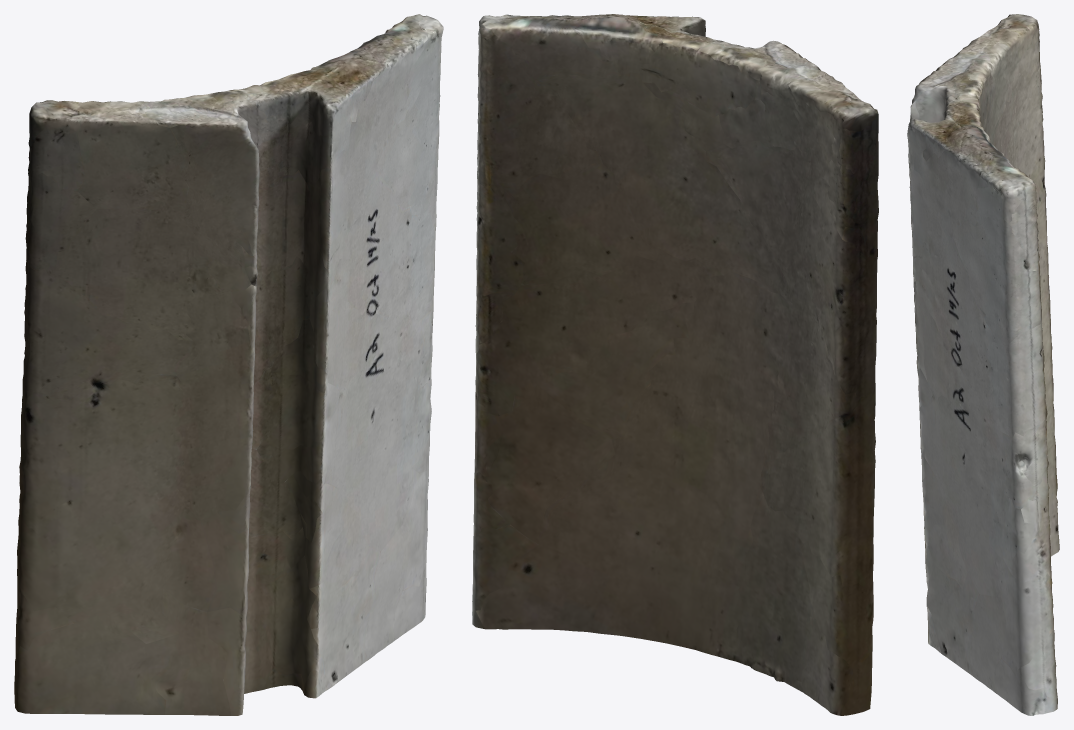
3 renders of one model, left to right at view 1: azimuth 30°, elevation 25°; view 2: azimuth 150°, elevation 25°; view 3: azimuth 270°, elevation 25°, orthographic. The views are drawn at different scales.
Parts seen in each view (by area): view 1: Node; view 2: Node; view 3: Node.
Part boxes in pixels (x1,y1,x2,y2): Node: (14, 14, 443, 715); Node: (472, 14, 878, 715); Node: (907, 14, 1059, 715).
Size of the model in its own units: 0.3323 by 0.4696 by 0.1209.
Materials: 1 (1 with a texture image).
